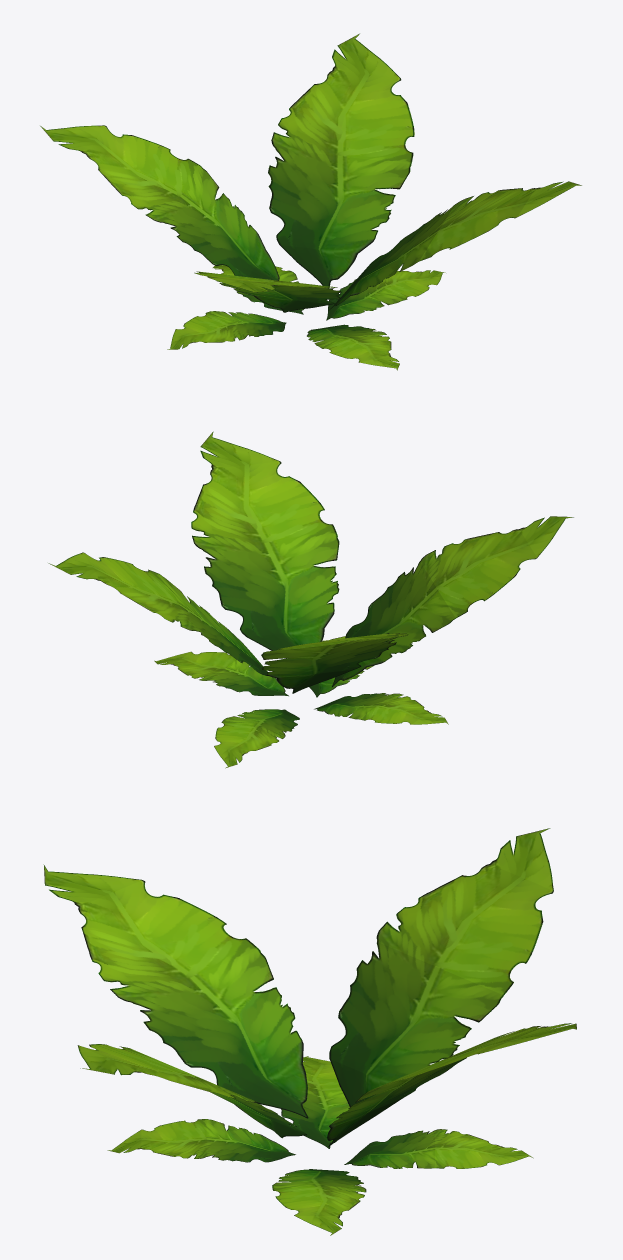
The model's file is Hemp_16.fbx.
3 views of the same model, one above another, from view 1: azimuth 30°, elevation 25°; view 2: azimuth 150°, elevation 25°; view 3: azimuth 270°, elevation 25° (orthographic). The views are drawn at different scales.
Visible parts, largest first — view 1: Hemp_16; view 2: Hemp_16; view 3: Hemp_16.
Boxes of the visible parts, x1=… form: Hemp_16: x1=40, y1=33, x2=581, y2=370; Hemp_16: x1=48, y1=431, x2=573, y2=768; Hemp_16: x1=43, y1=828, x2=576, y2=1235.
Bounding box in the file's own units: 236 × 105 × 232.
